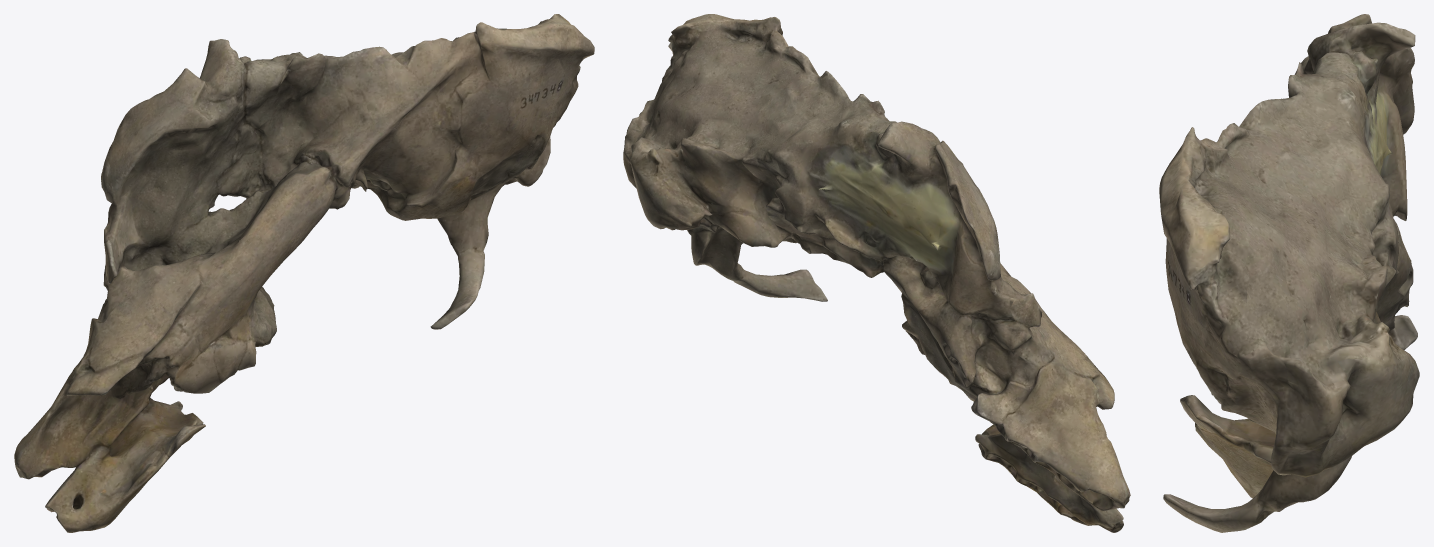
File: leptophoca.glb
3 renders of one model, left to right at view 1: azimuth 30°, elevation 25°; view 2: azimuth 150°, elevation 25°; view 3: azimuth 270°, elevation 25°, orthographic. The views are drawn at different scales.
Visible parts, largest first — view 1: Leptophoca_lenis_True-unwrapped-webmulti; view 2: Leptophoca_lenis_True-unwrapped-webmulti; view 3: Leptophoca_lenis_True-unwrapped-webmulti.
Part boxes in pixels (x1,y1,x2,y2): Leptophoca_lenis_True-unwrapped-webmulti: [14, 14, 594, 532]; Leptophoca_lenis_True-unwrapped-webmulti: [623, 14, 1130, 532]; Leptophoca_lenis_True-unwrapped-webmulti: [1159, 14, 1419, 532].
Bounding box in the file's own units: 0.1795 × 0.1393 × 0.0533.
Materials: 1 (1 with a texture image).
